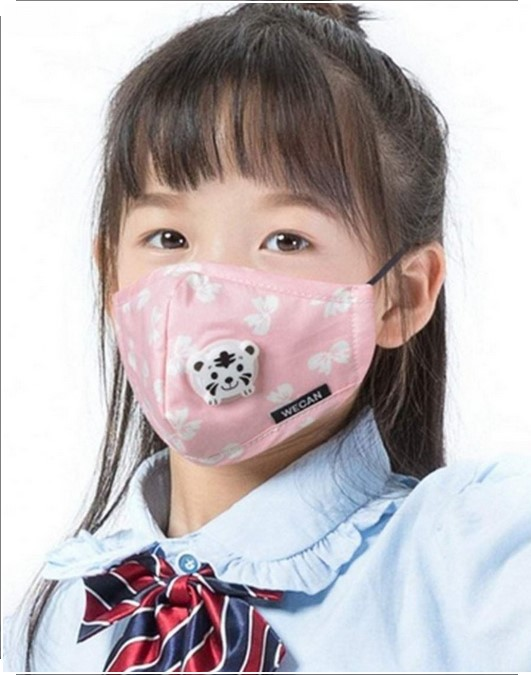face_with_mask: (100, 9, 446, 472)
